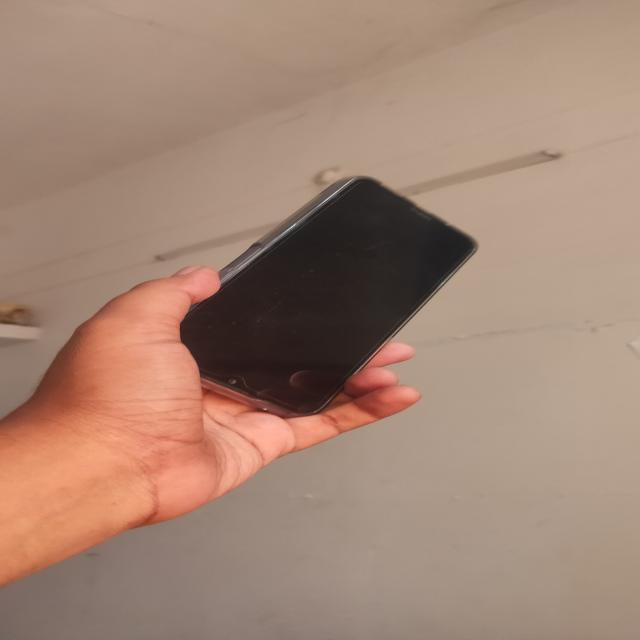Phone: (184, 173, 482, 420)
